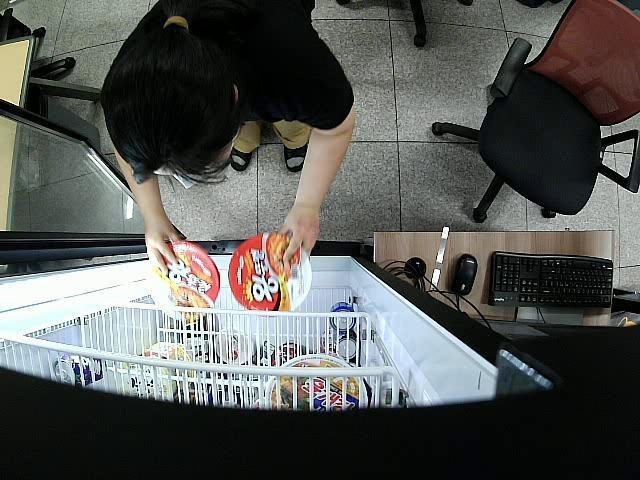10_wangTtukkeong: (229, 232, 313, 316), (153, 241, 220, 323)
